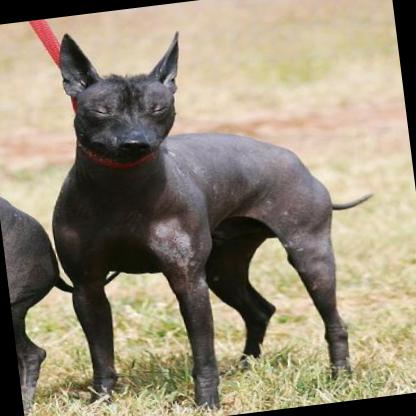Mexican_hairless: (35, 7, 355, 416)
